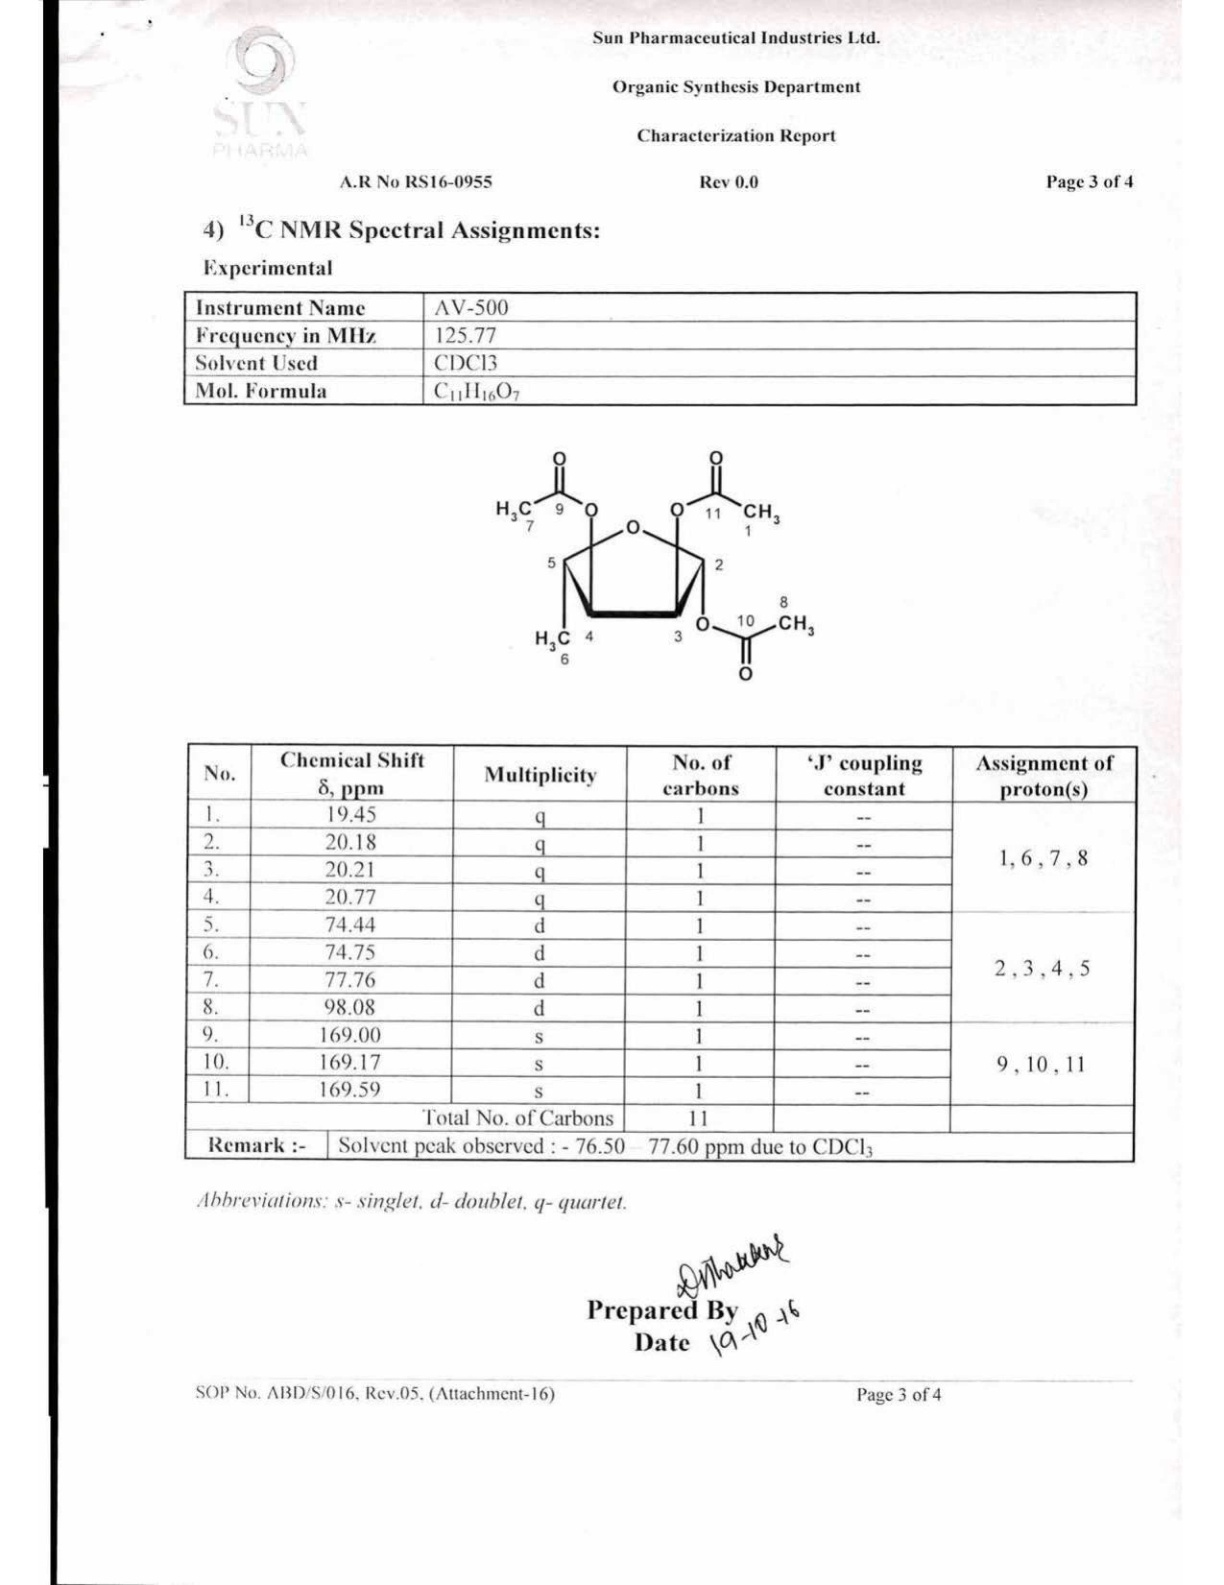full_lined: (183, 291, 1139, 406)
merged_cells: (184, 742, 1139, 1163)
